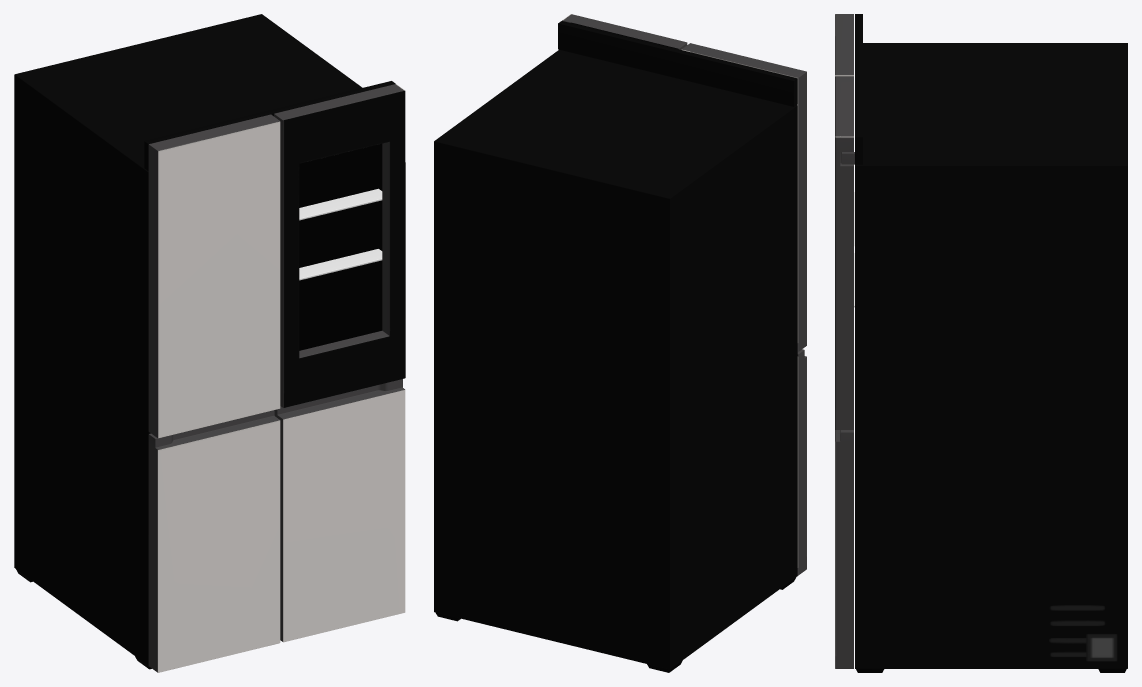
Rendered from electronic_64_05.001.fbx.
3 renders of one model, left to right at view 1: azimuth 30°, elevation 25°; view 2: azimuth 150°, elevation 25°; view 3: azimuth 270°, elevation 25°, orthographic. The views are drawn at different scales.
Parts seen in each view (by area): view 1: electronic_64_05.001; view 2: electronic_64_05.001; view 3: electronic_64_05.001.
Boxes of the visible parts, box(x1,y1,x2,y2) form: electronic_64_05.001: box(14, 14, 405, 672); electronic_64_05.001: box(434, 14, 806, 672); electronic_64_05.001: box(835, 14, 1127, 672).
Bounding box in the file's own units: 91.4 × 186 × 91.84.
1 material, 1 textured.
